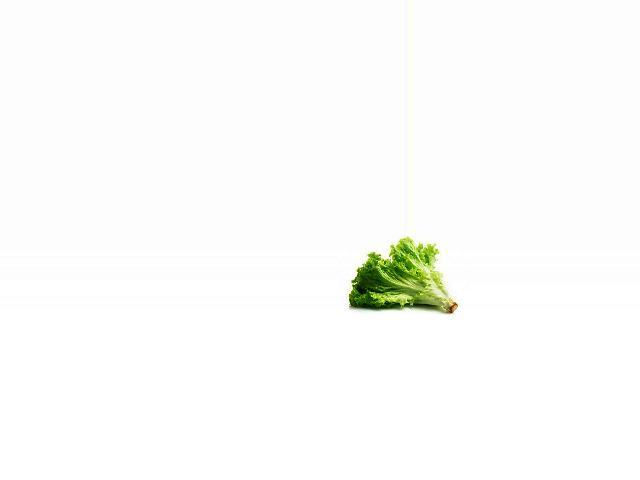lettuce: (349, 236, 460, 315)
